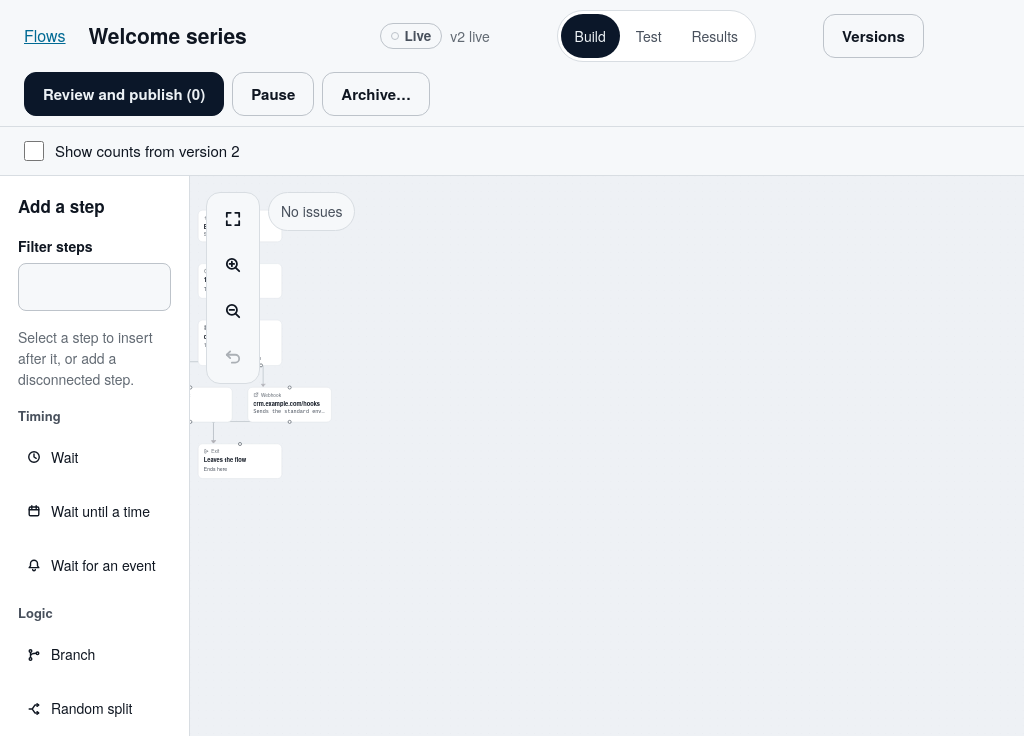
Test: a version on the canvas › draws the version read-only, with a banner
The image size is (1024, 736).
Check: the element named "Wait: 1 day" is shown, box [198,263,282,298]
What coordinates should you click on to do the following:
click the button "Versions"
I would click on:
 (873, 36)
Its box is [823,14,924,58].
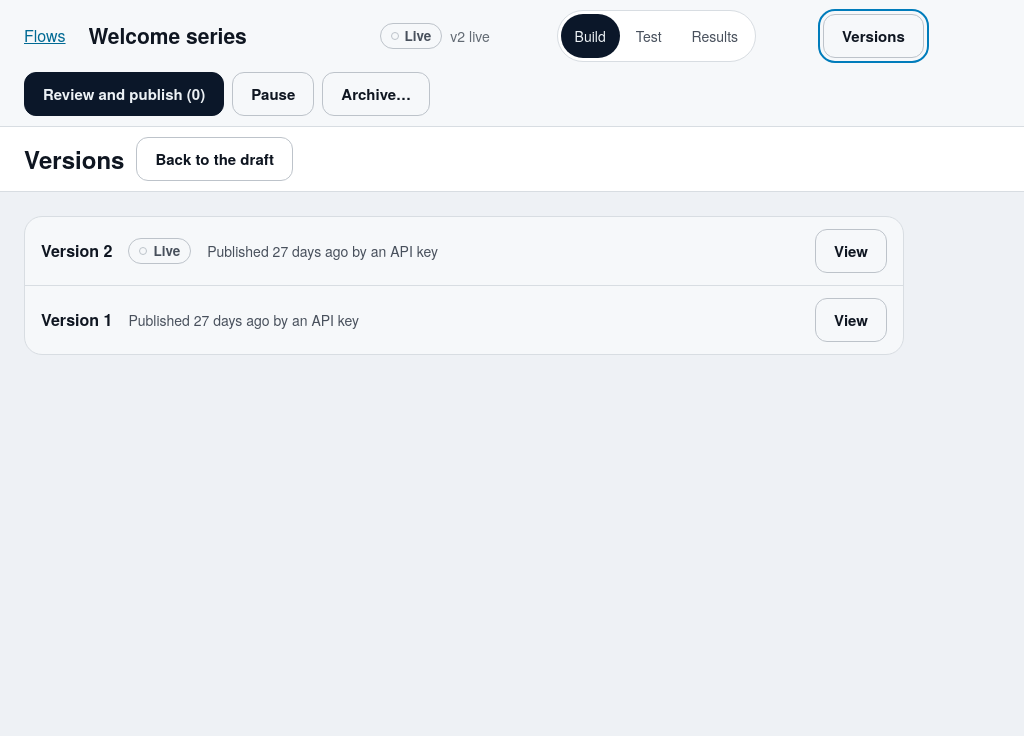
What coordinates should you click on to do the following:
click the button with aria-label "View version 1"
I would click on:
 (851, 320)
Its box is [815,298,887,342].
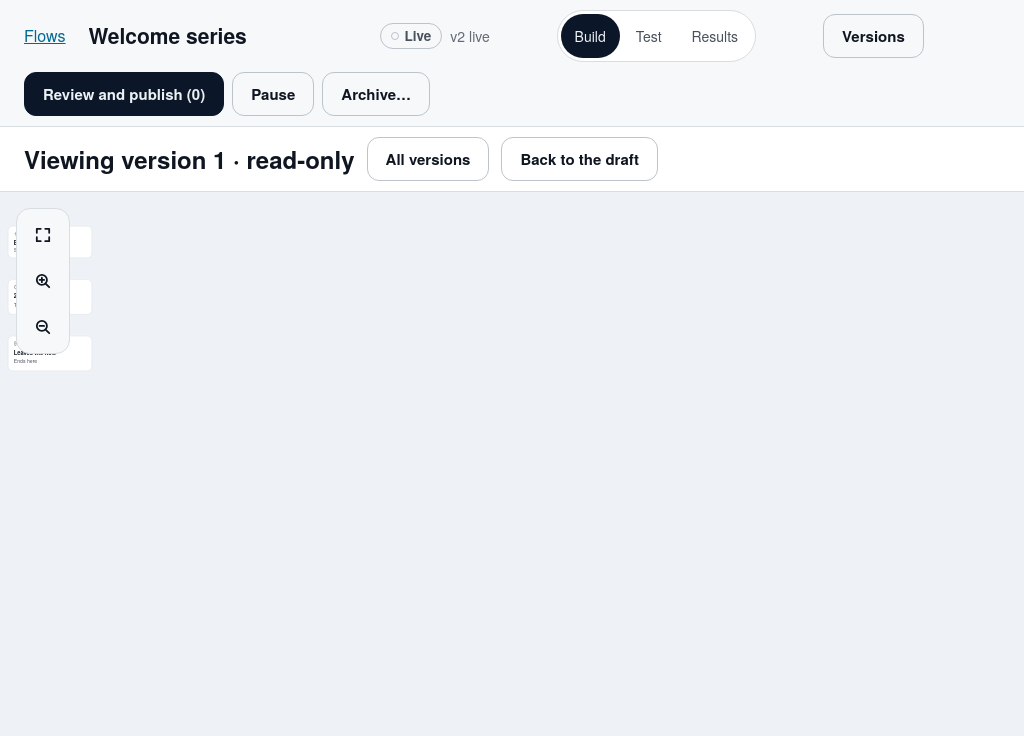
Check: the heading "Viewing version 1 · read-only" is shown, box [24,141,355,177]
Check: the element named "Wait: 2 days" is shown, box [8,279,92,314]
Check: the button named "Fit to screen" is shown, box [21,213,65,257]
